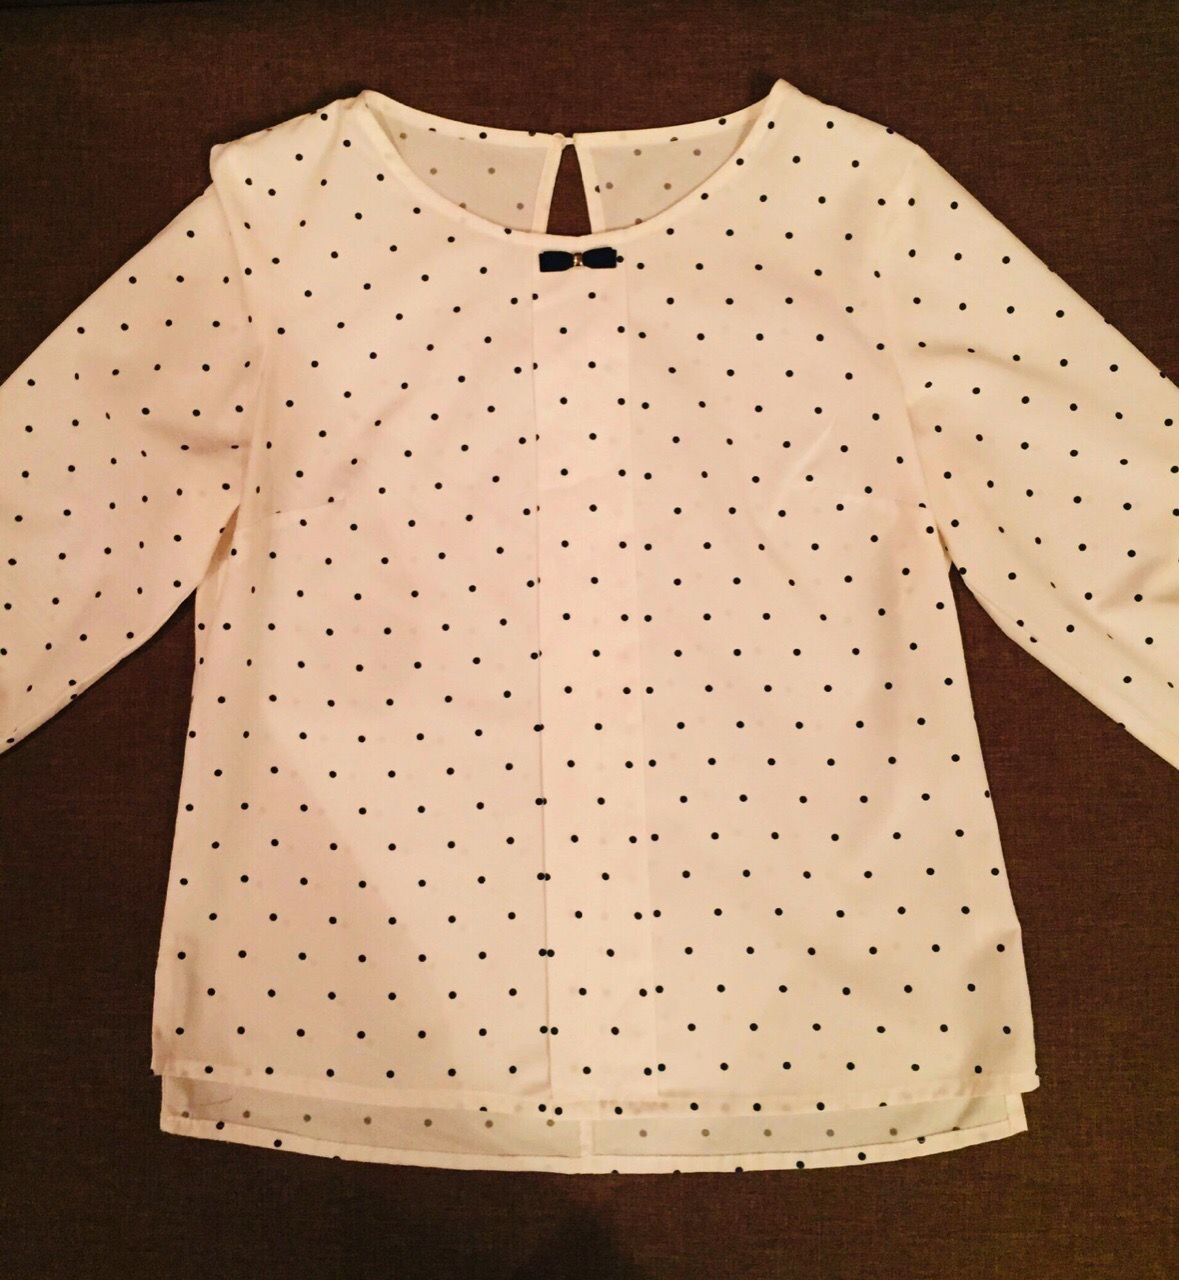clothes: (9, 85, 1179, 1163)
